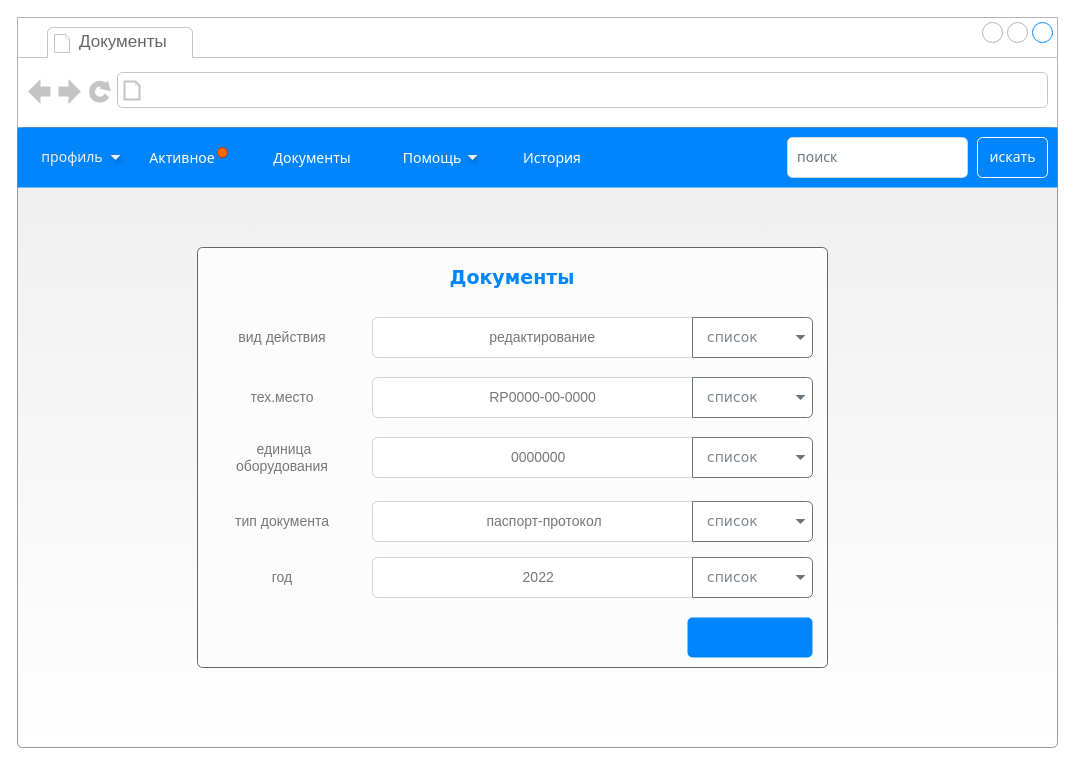
This 1075x765 diagram has some shape labels left out. Each missing label, with the centre of its shape:
"https://www.test.com" belongs at point (272, 90).
"Выбрать" belongs at point (749, 637).
